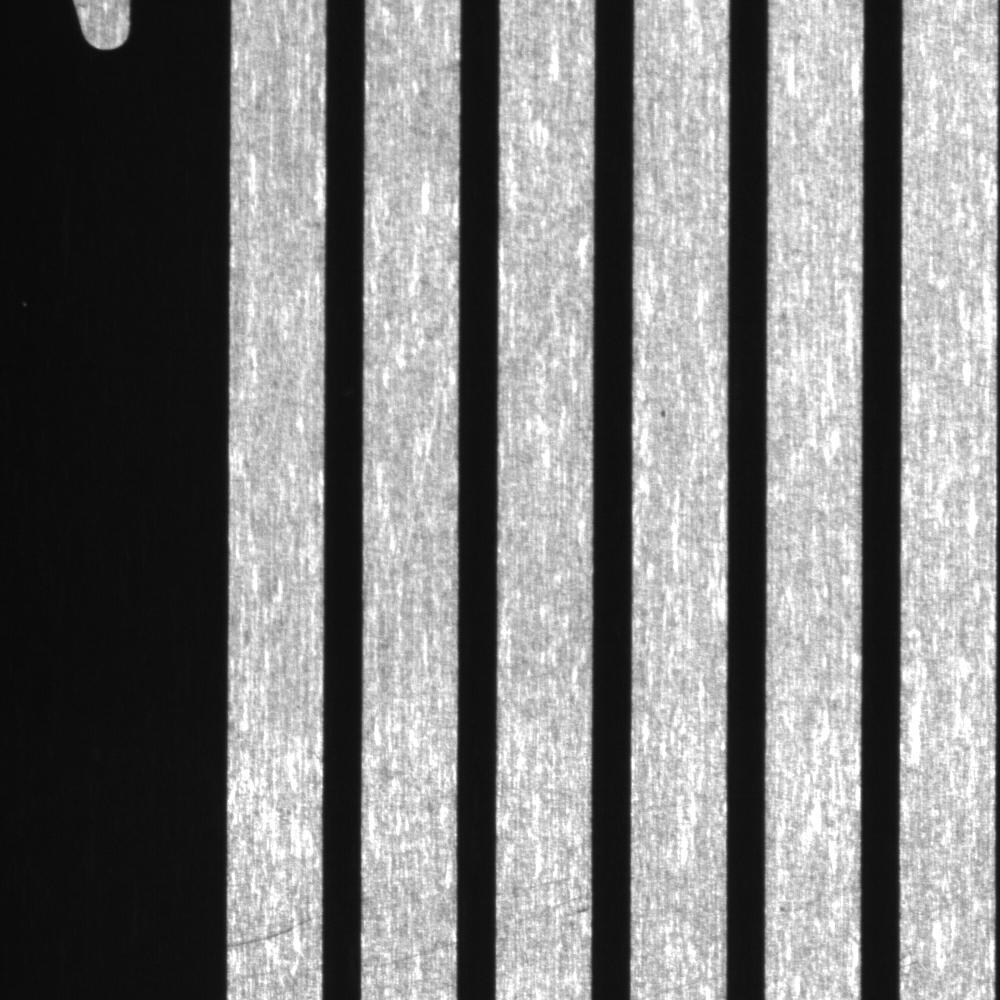Etching: (647, 397, 684, 432)
Scar: (493, 886, 590, 935), (224, 903, 320, 950), (363, 934, 455, 979)
